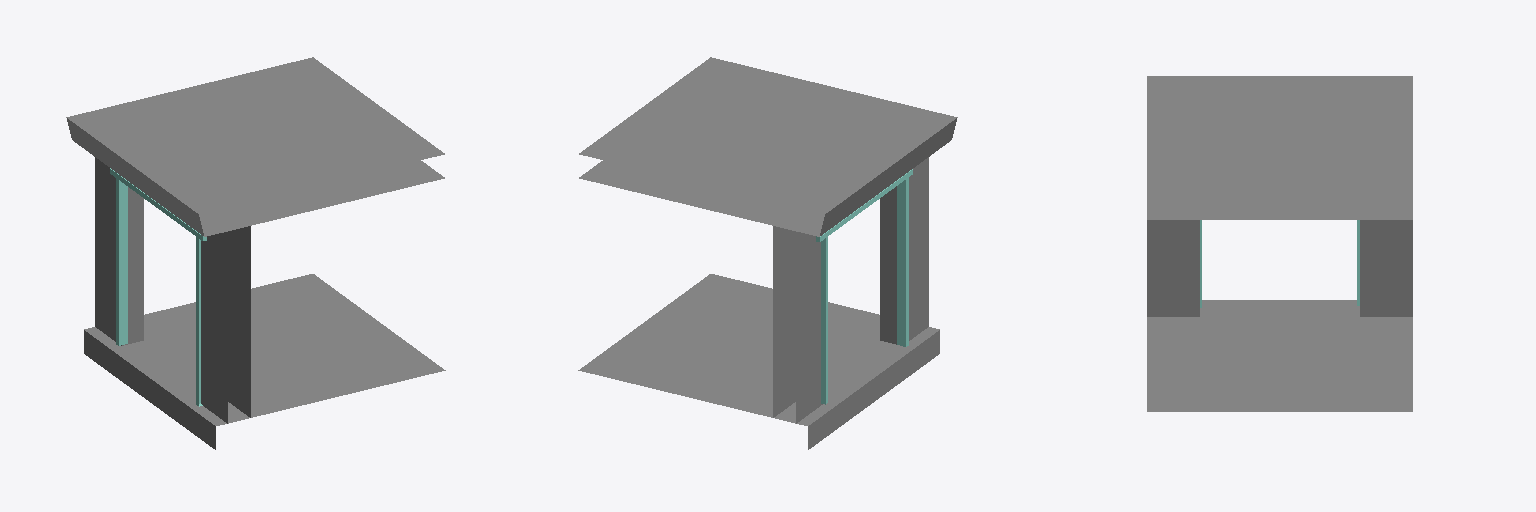
The model's file is worldtile26.obj.
The picture shows the model from 3 angles: view 1: azimuth 30°, elevation 25°; view 2: azimuth 150°, elevation 25°; view 3: azimuth 270°, elevation 25°; orthographic projection.
Parts seen in each view (by area): view 1: objobjobjDuplicate422b, Box003, Box002, Box001; view 2: objobjobjDuplicate422b, Box002, Box003, Box001; view 3: objobjobjDuplicate422b.
Boxes of the visible parts, <box> form: objobjobjDuplicate422b: <box>66,57,445,449</box>; Box003: <box>116,174,127,345</box>; Box002: <box>196,237,202,406</box>; Box001: <box>110,168,206,240</box>; objobjobjDuplicate422b: <box>578,57,957,449</box>; Box002: <box>897,178,908,346</box>; Box003: <box>821,232,827,404</box>; Box001: <box>816,169,912,241</box>; objobjobjDuplicate422b: <box>1147,76,1412,411</box>.
Bounding box in the file's own units: 10.75 × 10 × 10.